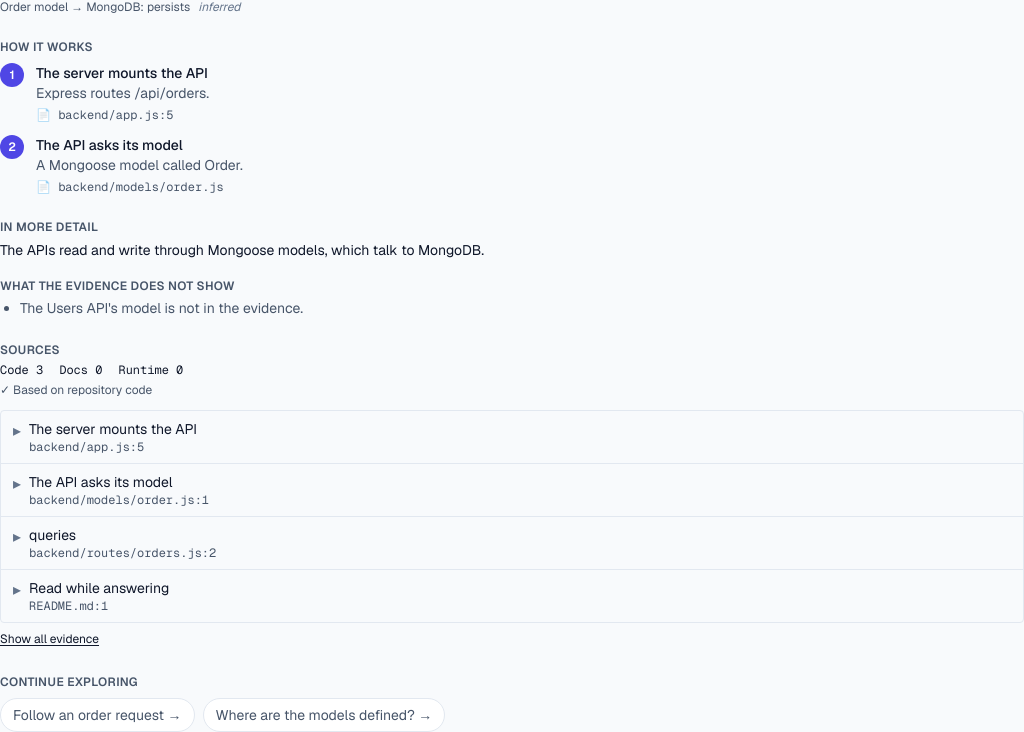
Test: sources › keep the full evidence, with its labels, one click away
(page scrolled)
Click the button with test id "show-all-evidence".
click(50, 639)  # box [0,631,99,647]
(page scrolled)
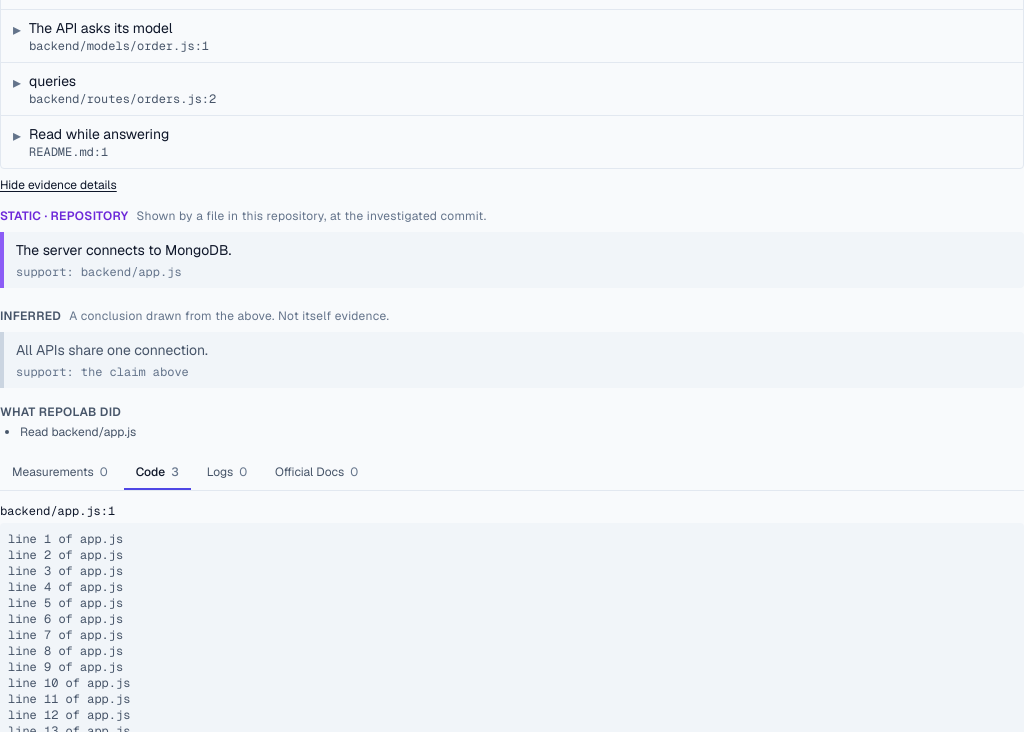
Expected: the element with test id "claims-repository" shows "static · repository", [0,208,128,224]
Expected: the element with test id "claims-inferred" is shown, [0,308,1023,388]
